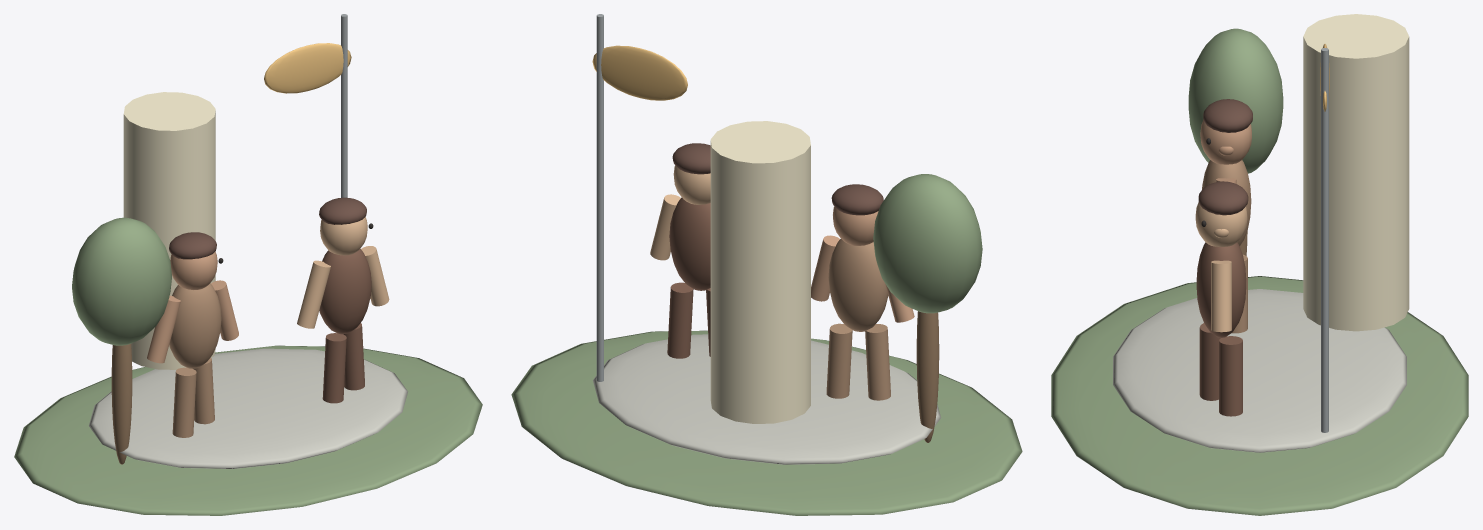
File: modern-scene.gltf
3 renders of one model, left to right at view 1: azimuth 30°, elevation 25°; view 2: azimuth 150°, elevation 25°; view 3: azimuth 270°, elevation 25°, orthographic. The views are drawn at different scales.
Parts seen in each view (by area): view 1: Ground, Plaza, Monument, TreeCanopy, Body (×2), Flag, LeftLeg (×2), Face (×2), LeftArm (×2), RightLeg (×2), TreeTrunk, Hair (×2) (+2 smaller); view 2: Ground, Monument, Plaza, TreeCanopy, Body (×2), Flag, RightLeg (×2), Flagpole, TreeTrunk, Hair (×2), Face (×2), RightArm (×2) (+1 smaller); view 3: Ground, Monument, Plaza, TreeCanopy, Body (×2), Flagpole, Face (×2), Hair (×2), RightLeg, RightArm, LeftLeg.
Boxes of the visible parts, <box> form: Ground: <box>14,345,482,515</box>; Plaza: <box>89,348,407,468</box>; Monument: <box>123,92,215,369</box>; TreeCanopy: <box>72,217,171,345</box>; Body (×2): <box>169,248,371,368</box>; Flag: <box>264,43,351,93</box>; LeftLeg (×2): <box>172,333,346,437</box>; Face (×2): <box>170,217,367,289</box>; LeftArm (×2): <box>147,260,330,363</box>; RightLeg (×2): <box>193,323,364,424</box>; TreeTrunk: <box>111,344,132,464</box>; Hair (×2): <box>169,197,366,259</box>; Ground: <box>511,330,1022,515</box>; Monument: <box>710,121,810,423</box>; Plaza: <box>593,334,940,464</box>; TreeCanopy: <box>873,174,982,313</box>; Body (×2): <box>669,197,888,331</box>; Flag: <box>592,45,687,100</box>; RightLeg (×2): <box>667,282,852,398</box>; Flagpole: <box>596,14,603,381</box>; TreeTrunk: <box>916,311,939,442</box>; Hair (×2): <box>672,143,883,215</box>; Face (×2): <box>673,165,878,245</box>; RightArm (×2): <box>650,194,839,301</box>; Ground: <box>1051,276,1468,515</box>; Monument: <box>1303,14,1409,331</box>; Plaza: <box>1113,289,1406,452</box>; TreeCanopy: <box>1188,28,1283,173</box>; Body (×2): <box>1196,160,1251,337</box>; Flagpole: <box>1321,48,1328,432</box>; Face (×2): <box>1195,119,1251,246</box>; Hair (×2): <box>1198,99,1252,215</box>; RightLeg: <box>1219,336,1242,416</box>; RightArm: <box>1211,260,1231,332</box>; LeftLeg: <box>1199,323,1220,400</box>.
Bounding box in the file's own units: 2.36 × 1.96 × 1.73.
